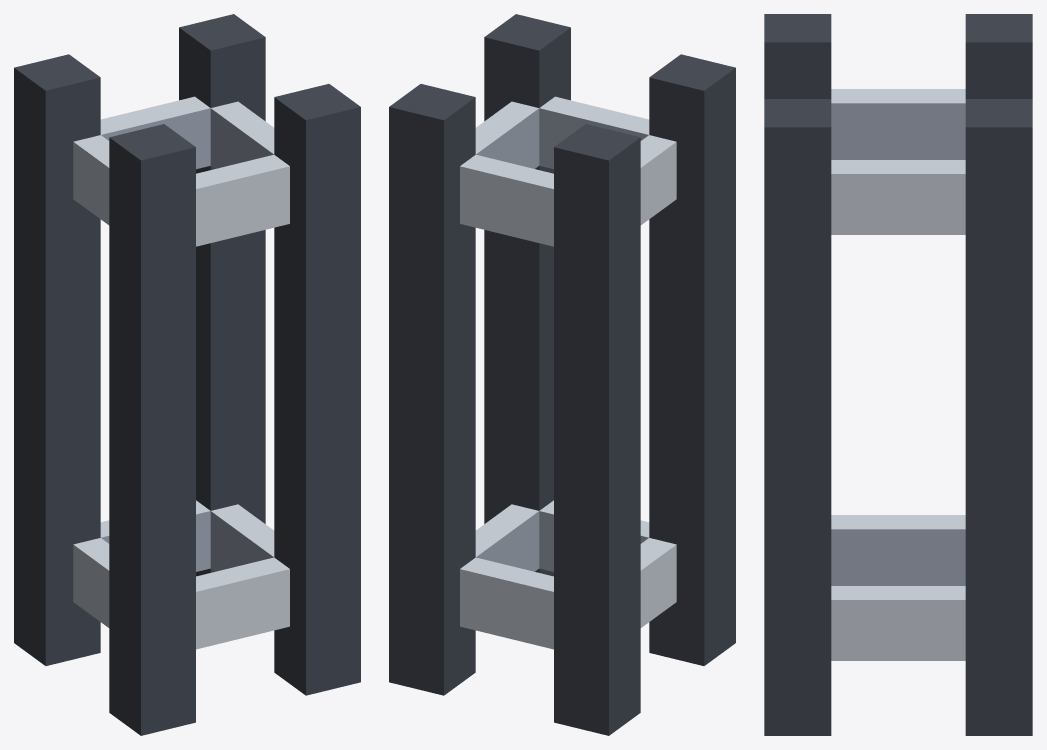
The model's file is monorail_trackSupport.dae.
3 renders of one model, left to right at view 1: azimuth 30°, elevation 25°; view 2: azimuth 150°, elevation 25°; view 3: azimuth 270°, elevation 25°, orthographic. The views are drawn at different scales.
Visible parts, largest first — view 1: monorail_trackSupport; view 2: monorail_trackSupport; view 3: monorail_trackSupport.
Boxes of the visible parts, bbox=[...] form: monorail_trackSupport: bbox=[14, 14, 360, 735]; monorail_trackSupport: bbox=[389, 14, 735, 735]; monorail_trackSupport: bbox=[764, 14, 1032, 735].
Size of the model in its own units: 0.2 by 0.5 by 0.2.
